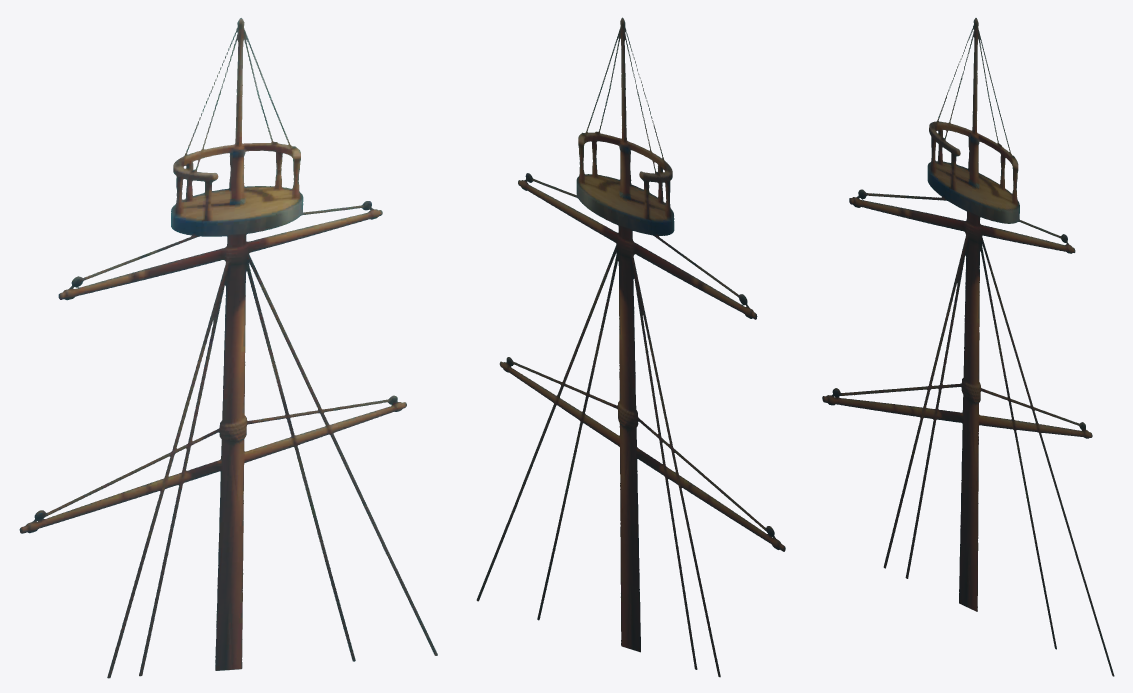
The model's file is pref_sce_081501_mast02_plan_lv3.fbx.
The picture shows the model from 3 angles, left to right: view 1: azimuth 30°, elevation 25°; view 2: azimuth 150°, elevation 25°; view 3: azimuth 330°, elevation 25°; orthographic projection. The views are drawn at different scales.
Parts seen in each view (by area): view 1: pref_sce_081501_mast02_plan_lv3; view 2: pref_sce_081501_mast02_plan_lv3; view 3: pref_sce_081501_mast02_plan_lv3.
Boxes of the visible parts, bbox=[...] form: pref_sce_081501_mast02_plan_lv3: bbox=[19, 18, 437, 678]; pref_sce_081501_mast02_plan_lv3: bbox=[476, 17, 785, 677]; pref_sce_081501_mast02_plan_lv3: bbox=[822, 18, 1114, 676].
Size of the model in its own units: 6.36 by 10.7 by 1.46.
1 material, 1 textured.
